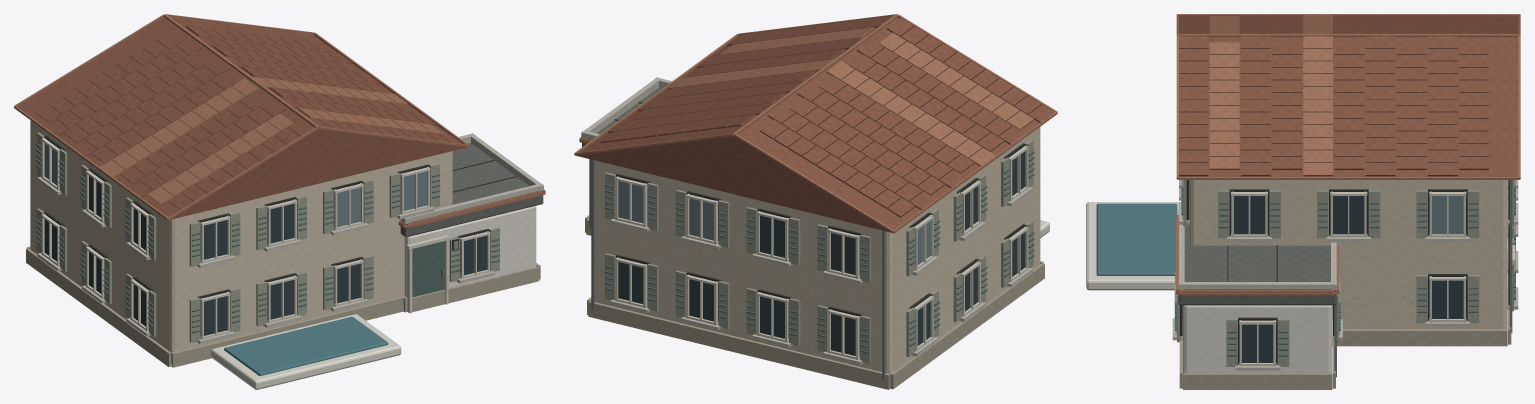
The model's file is RES_LUX_2x2_001.glb.
3 renders of one model, left to right at view 1: azimuth 30°, elevation 25°; view 2: azimuth 150°, elevation 25°; view 3: azimuth 270°, elevation 25°, orthographic. The views are drawn at different scales.
Visible parts, largest first — view 1: RES_LUX_2x2_001_Visual; view 2: RES_LUX_2x2_001_Visual; view 3: RES_LUX_2x2_001_Visual.
Part boxes in pixels (box(x1,y1,x2,y2)): RES_LUX_2x2_001_Visual: box(14, 14, 545, 389); RES_LUX_2x2_001_Visual: box(574, 14, 1057, 389); RES_LUX_2x2_001_Visual: box(1086, 14, 1520, 389).
Size of what is drawn, in the model's own units: 3.77 by 1.98 by 3.34.
Materials: 17 (9 with a texture image).
